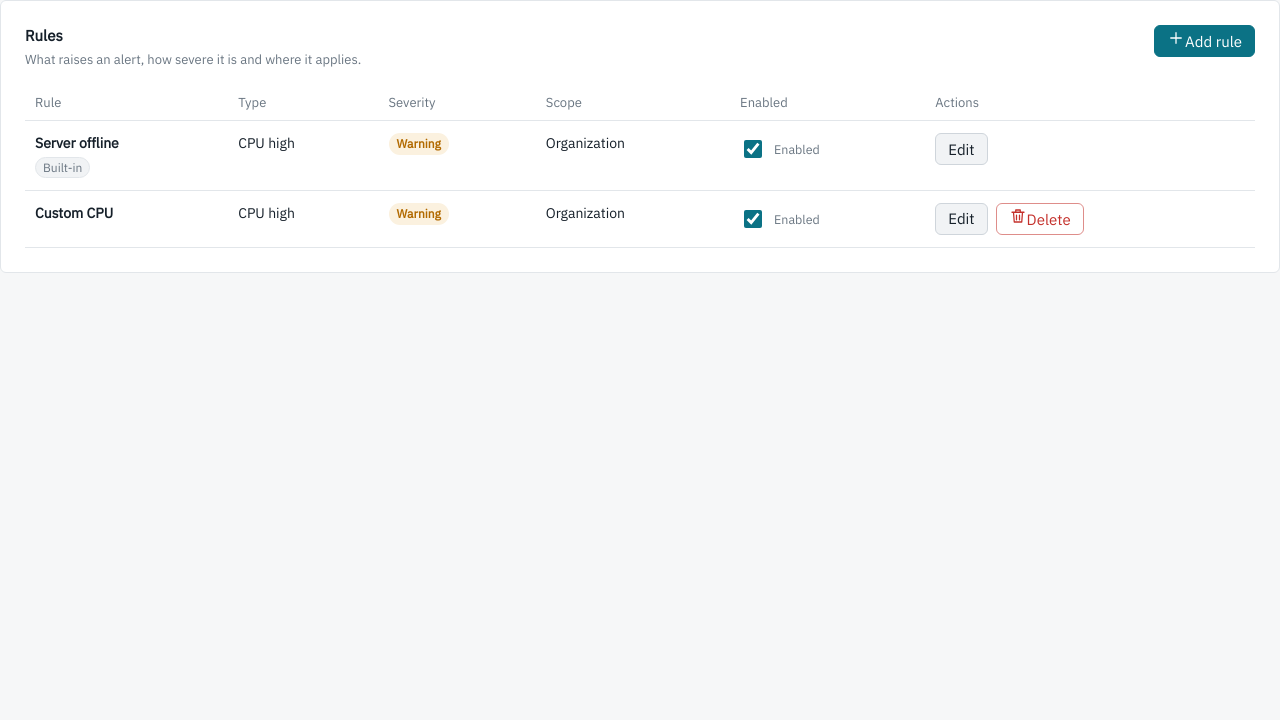
alert settings › lists built-in rules without delete and creates a validated rule
This screenshot has width=1280, height=720.
Expected: the text "Server offline" is shown, [35, 134, 119, 152]
Expected: the button "Delete" is shown, [996, 203, 1084, 235]
Click the button "Add rule" at (1205, 41), box [1154, 25, 1255, 57]
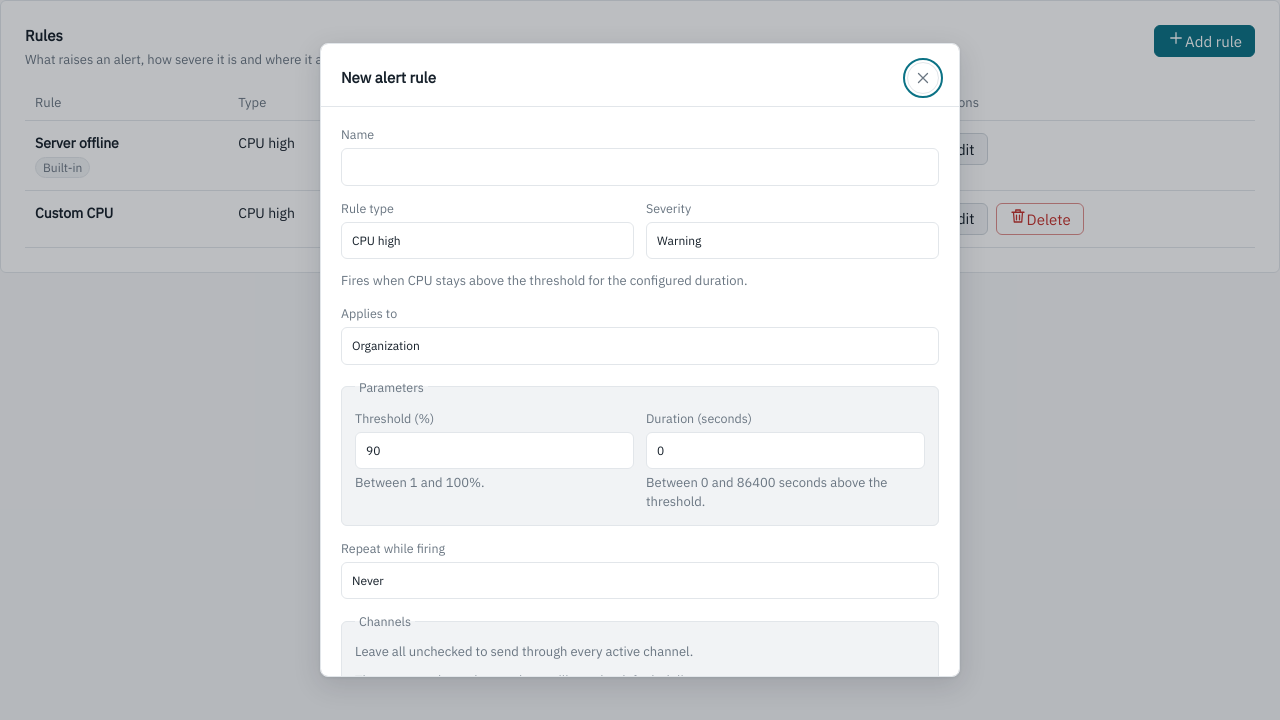
Type "CPU watch" into the field labelled "Name" at (640, 167), box [341, 148, 939, 186]
(page scrolled)
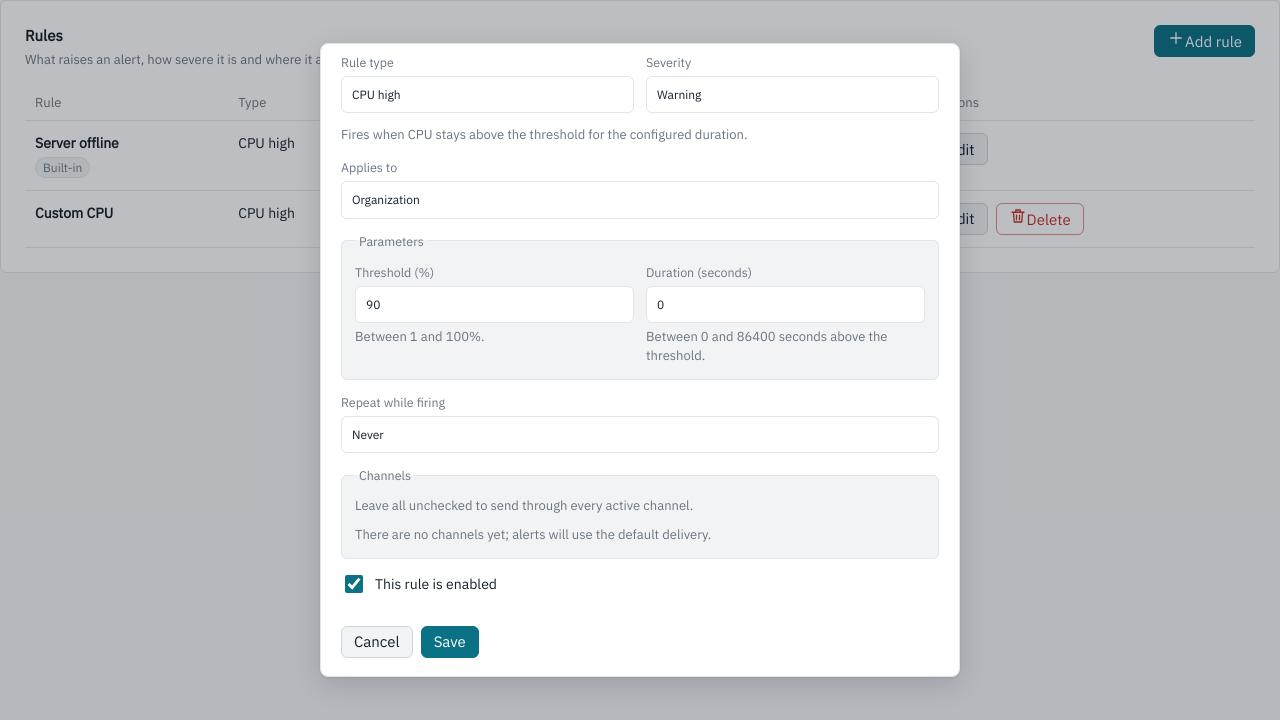
Click the button "Save" at (450, 642), box [421, 626, 479, 658]
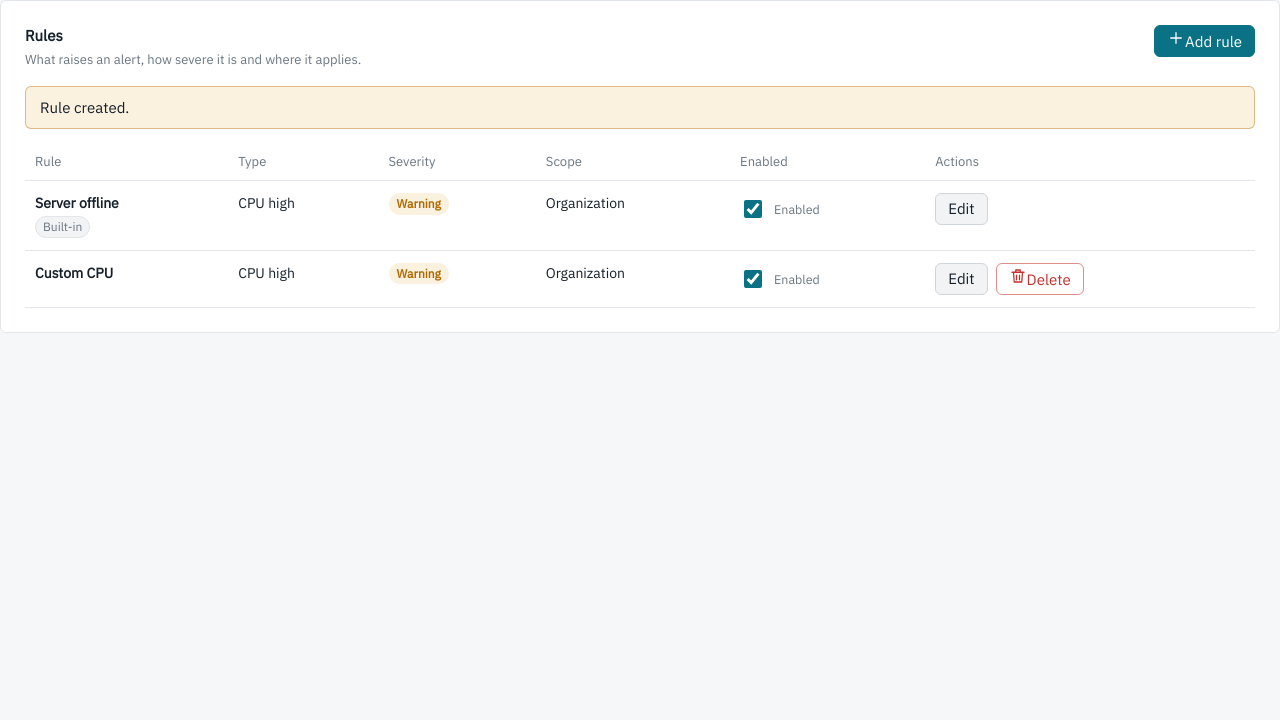
Click the button "Add rule" at (1205, 41), box [1154, 25, 1255, 57]
(page scrolled)
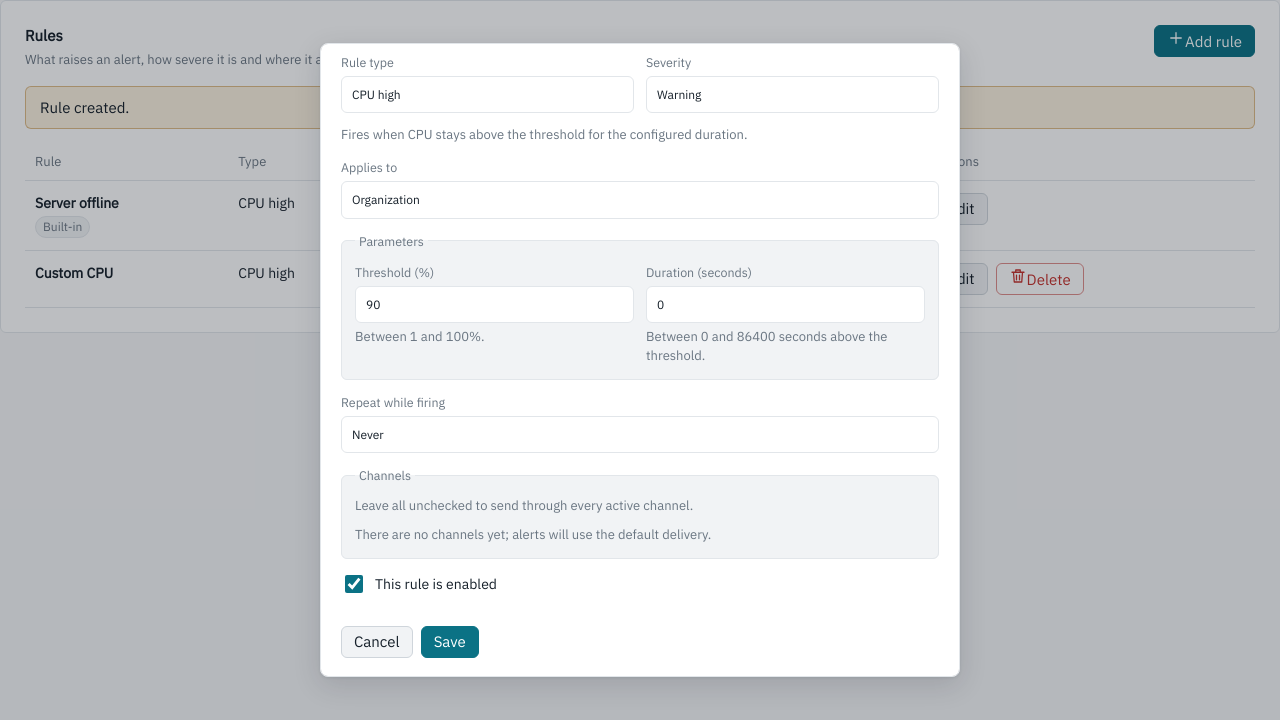
Click the button "Save" at (450, 642), box [421, 626, 479, 658]
(page scrolled)
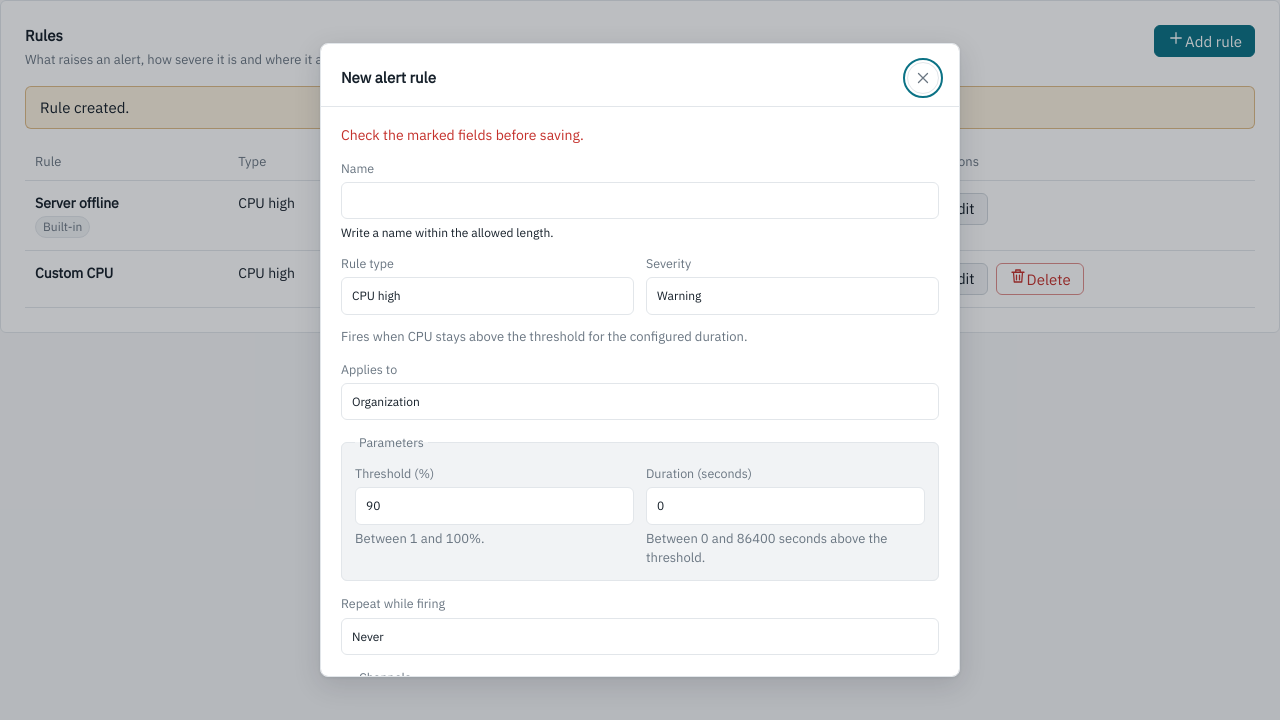
Now the message "Check the marked fields before saving." is shown, box [341, 126, 584, 144]
